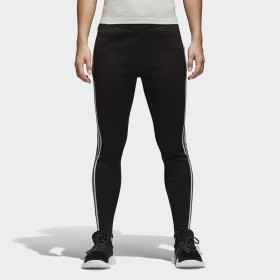feet: (74, 214, 205, 271)
